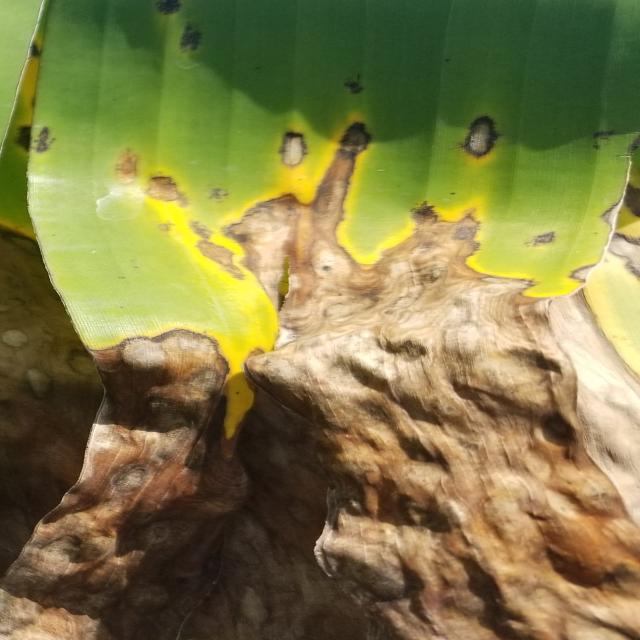Early_rust: (0, 0, 640, 402)
